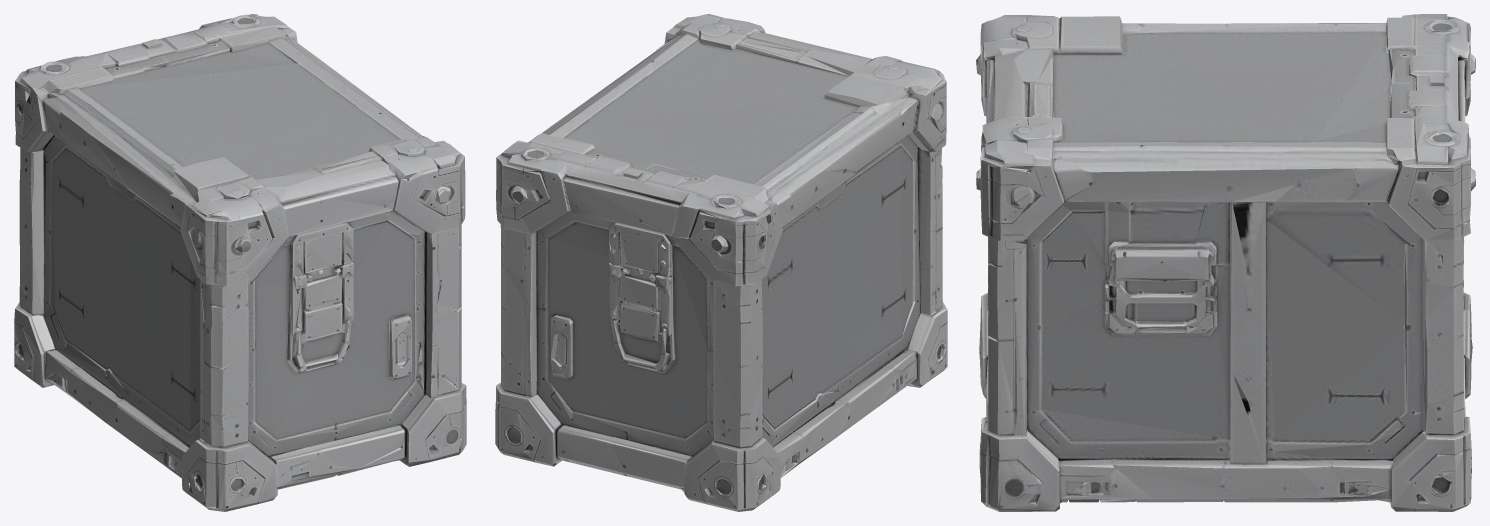
File: cargo_crate_small.glb
3 renders of one model, left to right at view 1: azimuth 30°, elevation 25°; view 2: azimuth 150°, elevation 25°; view 3: azimuth 270°, elevation 25°, orthographic. The views are drawn at different scales.
Parts seen in each view (by area): view 1: output_unwrapped; view 2: output_unwrapped; view 3: output_unwrapped.
Part boxes in pixels (x1=…): output_unwrapped: x1=14, y1=14, x2=466, y2=511; output_unwrapped: x1=495, y1=14, x2=947, y2=511; output_unwrapped: x1=976, y1=14, x2=1475, y2=511.
Bounding box in the file's own units: 1.38 × 1.51 × 1.9.
1 material, 1 textured.
